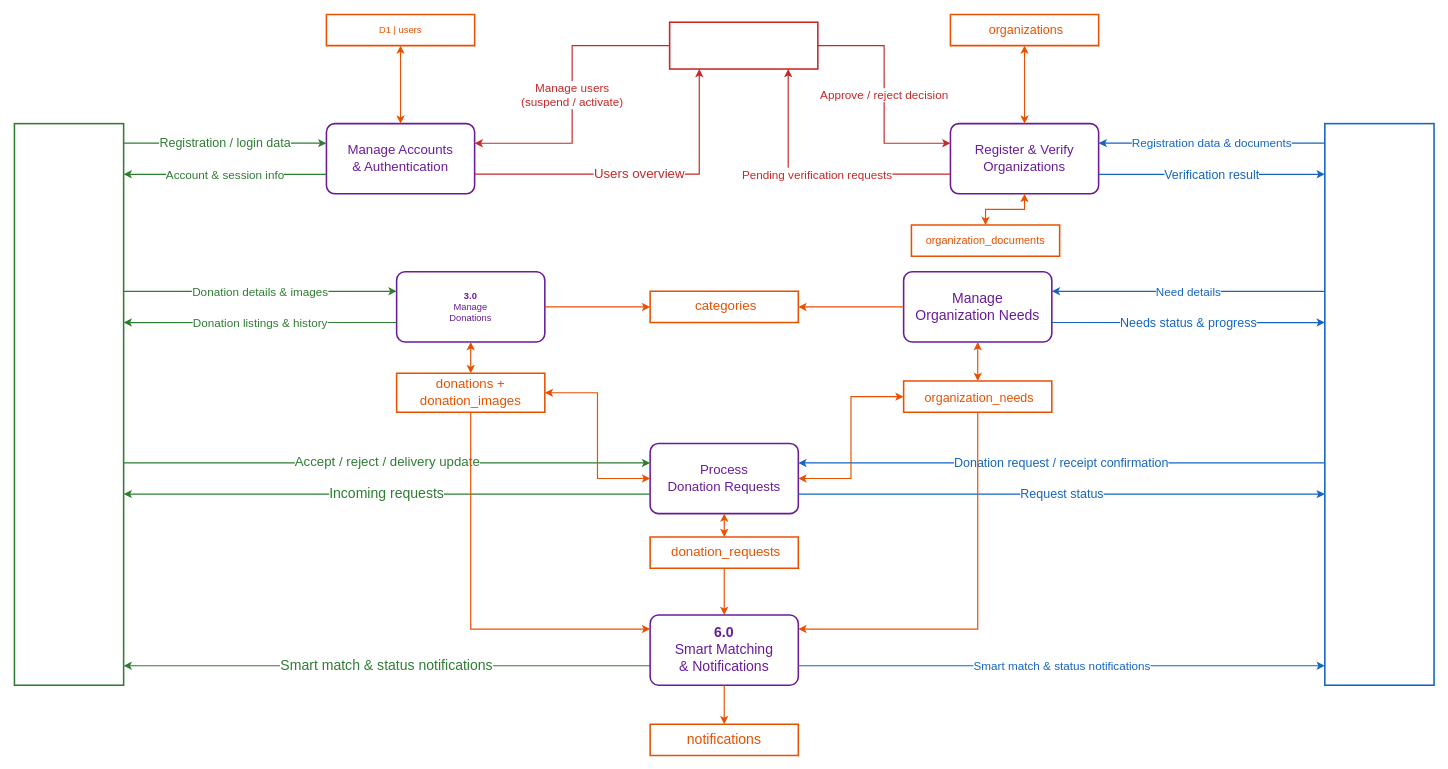
Image size: 1448x769. Some labels were removed from this diagram. The shapes that lost their labels are listed below. From the top down, each one's centre as x and y in pixels, then its label:
At point (743, 45): "Admin".
At point (68, 404): "Donor".
At point (1379, 404): "Organization".
